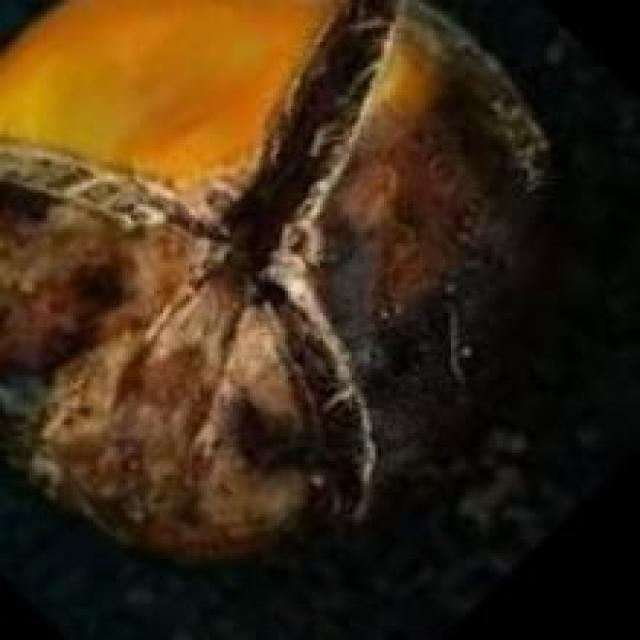damaged: (1, 1, 542, 566)
